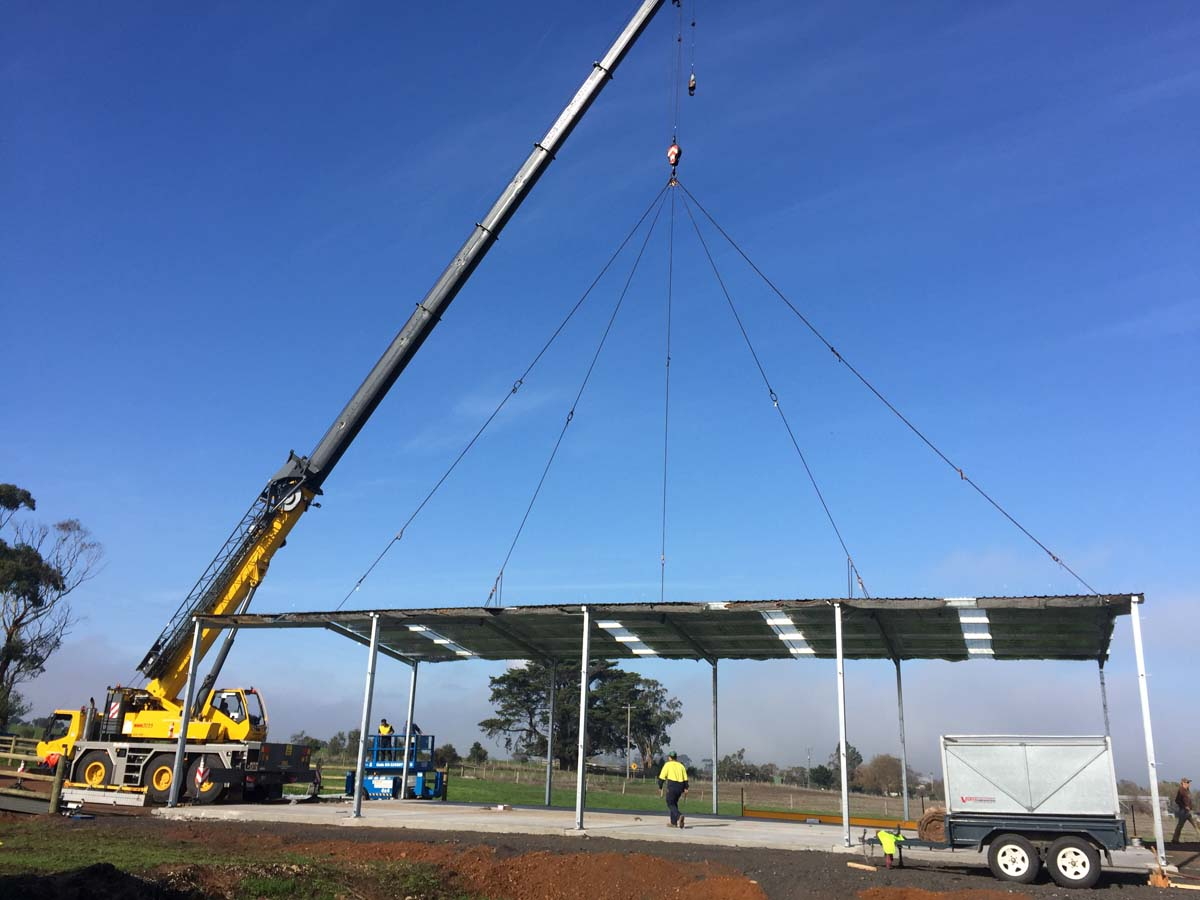crane: (29, 1, 687, 811)
